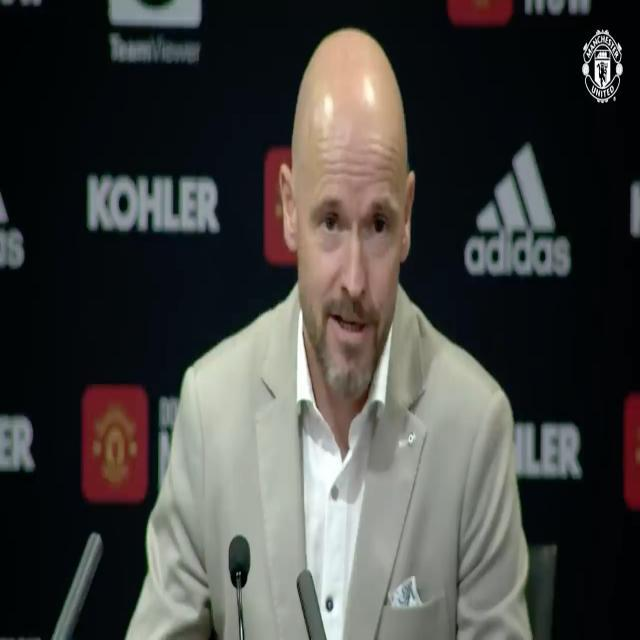Adidas: (463, 140, 570, 278)
Kohler: (87, 172, 220, 233)
TeamViewer: (109, 0, 202, 64)
